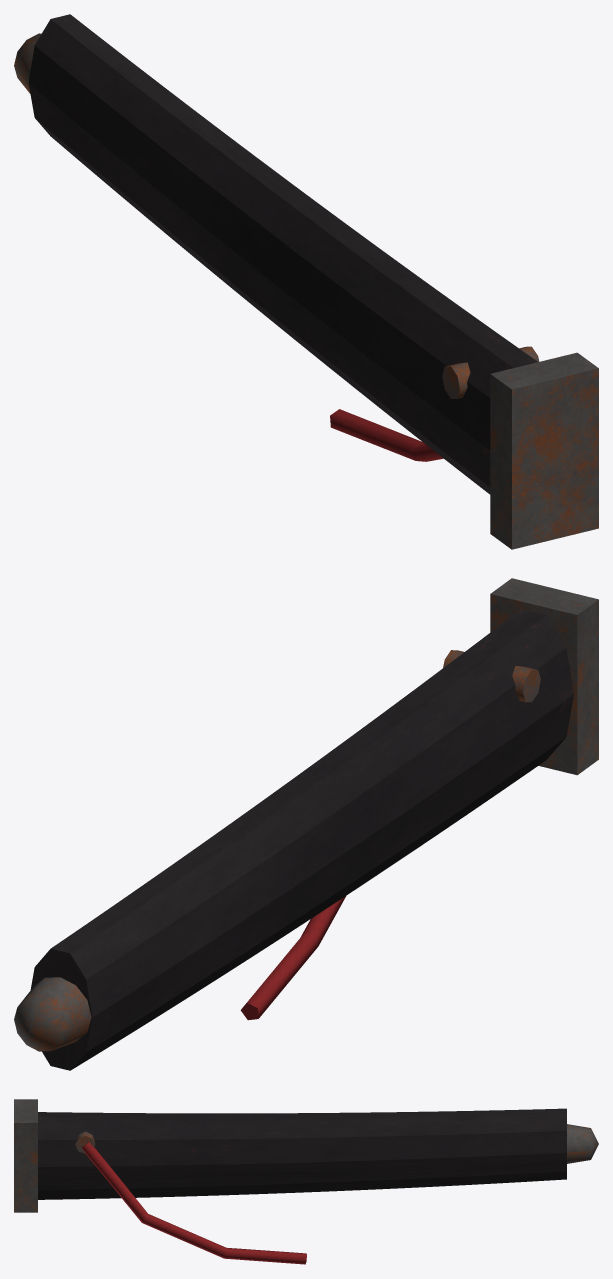
The model's file is HO_Weapon_AshfallSword_Saya.fbx.
3 views of the same model, one above another, from view 1: azimuth 30°, elevation 25°; view 2: azimuth 150°, elevation 25°; view 3: azimuth 270°, elevation 25° (orthographic). The views are drawn at different scales.
Parts seen in each view (by area): view 1: HO_Weapon_AshfallSword_Saya__Black_Lacquer, HO_Weapon_AshfallSword_Saya__Iron_Wrought, HO_Weapon_AshfallSword_Saya__Cloth_Crimson; view 2: HO_Weapon_AshfallSword_Saya__Black_Lacquer, HO_Weapon_AshfallSword_Saya__Iron_Wrought, HO_Weapon_AshfallSword_Saya__Cloth_Crimson; view 3: HO_Weapon_AshfallSword_Saya__Black_Lacquer, HO_Weapon_AshfallSword_Saya__Iron_Wrought, HO_Weapon_AshfallSword_Saya__Cloth_Crimson.
Part boxes in pixels (left/top/right/bottom): HO_Weapon_AshfallSword_Saya__Black_Lacquer: left=28, top=14, right=537, bottom=494; HO_Weapon_AshfallSword_Saya__Iron_Wrought: left=14, top=33, right=598, bottom=549; HO_Weapon_AshfallSword_Saya__Cloth_Crimson: left=330, top=409, right=443, bottom=461; HO_Weapon_AshfallSword_Saya__Black_Lacquer: left=30, top=609, right=573, bottom=1070; HO_Weapon_AshfallSword_Saya__Iron_Wrought: left=14, top=578, right=598, bottom=1051; HO_Weapon_AshfallSword_Saya__Cloth_Crimson: left=240, top=896, right=345, bottom=1020; HO_Weapon_AshfallSword_Saya__Black_Lacquer: left=38, top=1108, right=566, bottom=1199; HO_Weapon_AshfallSword_Saya__Iron_Wrought: left=14, top=1099, right=598, bottom=1212; HO_Weapon_AshfallSword_Saya__Cloth_Crimson: left=81, top=1142, right=306, bottom=1264.
Size of the model in its own units: 0.3699 by 0.7734 by 2.92.
